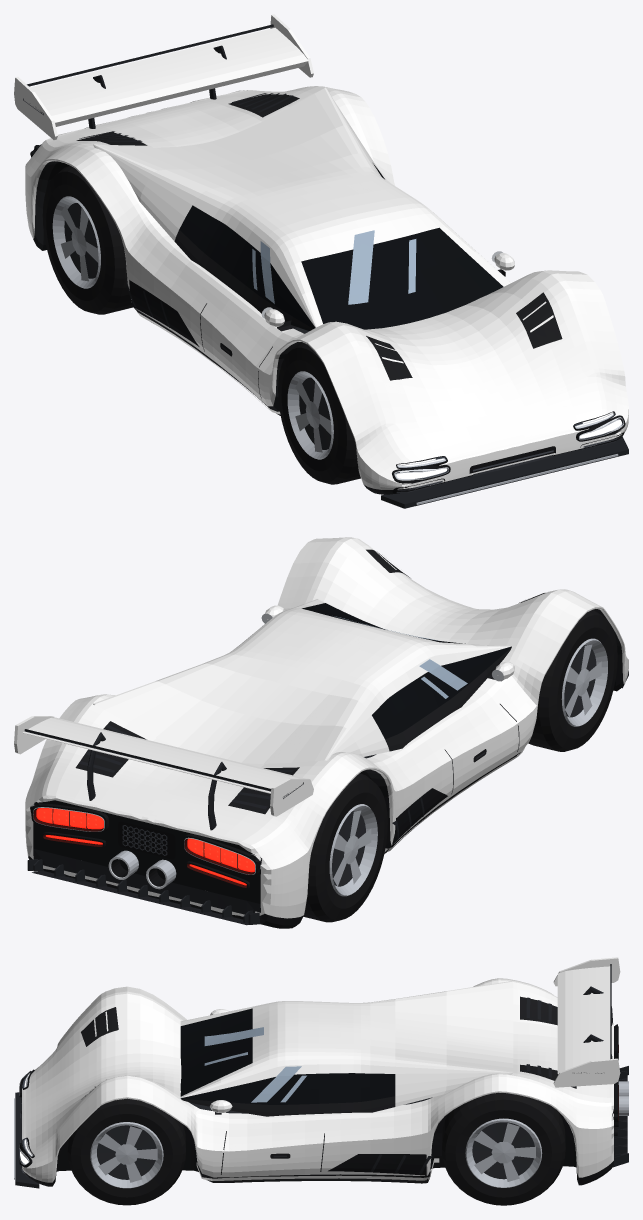
File: hyper.glb
3 views of the same model, one above another, from view 1: azimuth 30°, elevation 25°; view 2: azimuth 150°, elevation 25°; view 3: azimuth 270°, elevation 25° (orthographic). The views are drawn at different scales.
Visible parts, largest first — view 1: body, cabine, asa, wheel_rr, wheel_fr, divisor, reflexo_vidro, naca, lamp_head, asa_placas, venezianas, entrada_ar_r (+1 smaller); view 2: body, cabine, wheel_rr, wheel_fr, painel_traseiro, asa, lamp_tail, difusor, venezianas, asa_placas, grade_colmeia, entrada_ar_r (+3 smaller); view 3: body, cabine, wheel_rl, wheel_fl, asa, asa_placas, entrada_ar_l, reflexo_vidro, venezianas, divisor, lamina_acento, naca (+3 smaller).
Part boxes in pixels (x1,y1,x2,y2): body: (25, 86, 628, 494); cabine: (93, 87, 511, 330); asa: (27, 24, 308, 126); wheel_rr: (42, 165, 133, 314); wheel_fr: (278, 342, 360, 484); divisor: (381, 436, 628, 508); reflexo_vidro: (252, 230, 416, 304); naca: (366, 292, 562, 380); lamp_head: (392, 411, 625, 483); asa_placas: (14, 14, 313, 139); venezianas: (76, 93, 299, 145); entrada_ar_r: (126, 280, 199, 346); body: (25, 537, 628, 928); cabine: (93, 599, 511, 763); wheel_rr: (303, 773, 387, 922); wheel_fr: (528, 610, 617, 751); painel_traseiro: (33, 800, 261, 917); asa: (22, 717, 305, 793); lamp_tail: (30, 802, 260, 888); difusor: (27, 859, 261, 925); venezianas: (75, 721, 299, 814); asa_placas: (14, 716, 313, 816); grade_colmeia: (118, 821, 175, 859); entrada_ar_r: (392, 788, 447, 844); body: (22, 978, 613, 1186); cabine: (180, 980, 513, 1116); wheel_rl: (442, 1092, 565, 1205); wheel_fl: (67, 1098, 185, 1205); asa: (557, 964, 611, 1074); asa_placas: (553, 957, 620, 1087); entrada_ar_l: (328, 1133, 441, 1175); reflexo_vidro: (204, 1027, 306, 1102); venezianas: (520, 996, 576, 1088); divisor: (14, 1092, 39, 1188); lamina_acento: (196, 1158, 439, 1180); naca: (81, 1007, 118, 1099).
Bounding box in the file's own units: 1.99 × 1.2 × 4.57.
